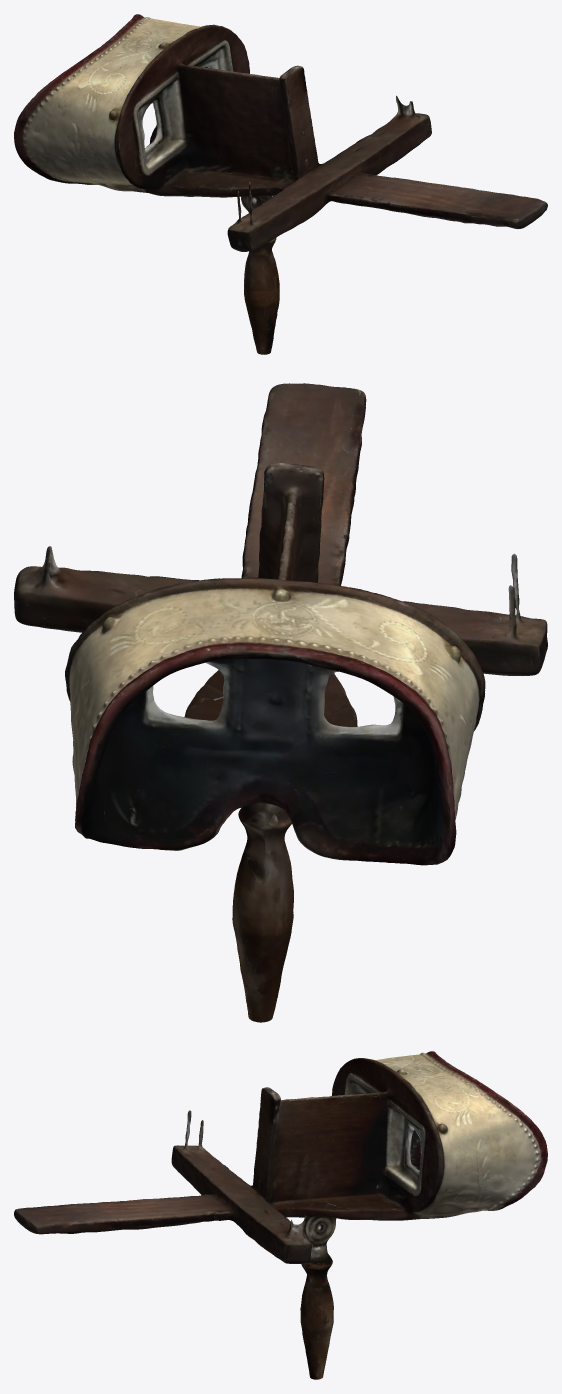
The model's file is stereoscope.glb.
3 renders of one model, top to bottom at view 1: azimuth 30°, elevation 25°; view 2: azimuth 150°, elevation 25°; view 3: azimuth 270°, elevation 25°, orthographic. The views are drawn at different scales.
Visible parts, largest first — view 1: 3DModel_Custom; view 2: 3DModel_Custom; view 3: 3DModel_Custom.
Part boxes in pixels (left/top/right/bottom): 3DModel_Custom: left=14, top=14, right=547, bottom=354; 3DModel_Custom: left=14, top=383, right=547, bottom=1022; 3DModel_Custom: left=14, top=1051, right=547, bottom=1379.
Bounding box in the file's own units: 0.6761 × 0.5791 × 0.9726.
Materials: 1 (1 with a texture image).
